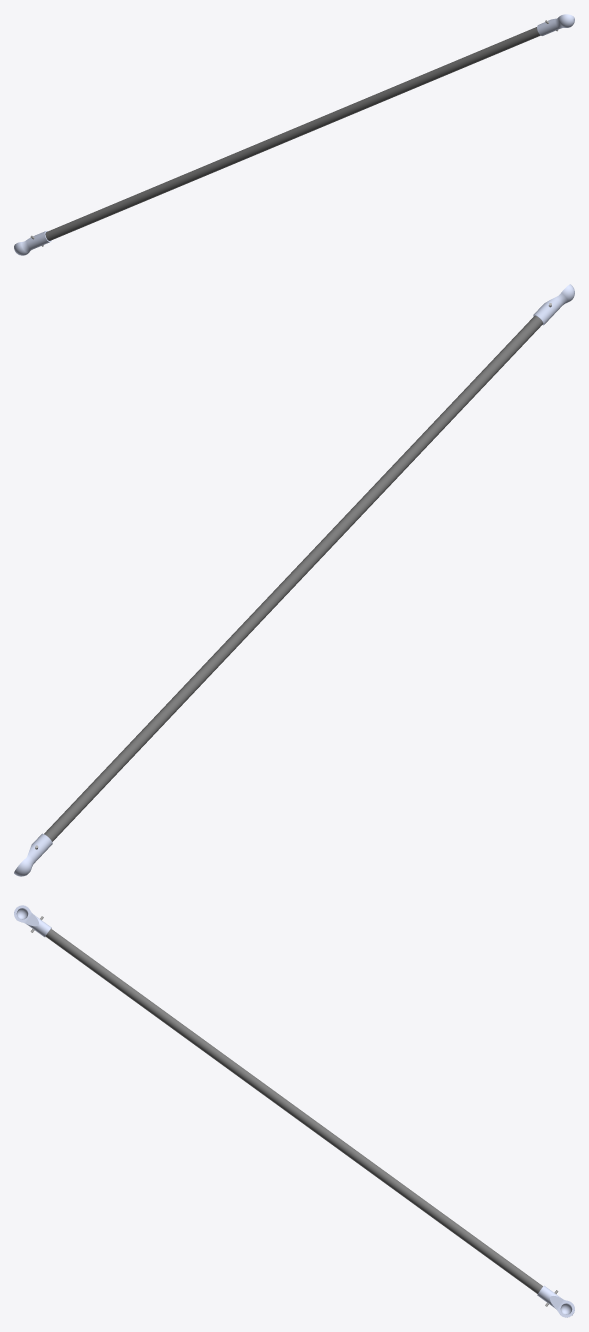
3 views of the same model, one above another, from view 1: azimuth 90°, elevation 25°; view 2: azimuth 150°, elevation 25°; view 3: azimuth 270°, elevation 25° (orthographic). The views are drawn at different scales.
Parts seen in each view (by area): view 1: IRB360_6-1600-STD-4D_rev03_LA3_1_CAD.step1; view 2: IRB360_6-1600-STD-4D_rev03_LA3_1_CAD.step1; view 3: IRB360_6-1600-STD-4D_rev03_LA3_1_CAD.step1.
Part boxes in pixels (bbox=[...]): IRB360_6-1600-STD-4D_rev03_LA3_1_CAD.step1: bbox=[14, 14, 574, 255]; IRB360_6-1600-STD-4D_rev03_LA3_1_CAD.step1: bbox=[14, 284, 574, 876]; IRB360_6-1600-STD-4D_rev03_LA3_1_CAD.step1: bbox=[14, 905, 574, 1317].
Bounding box in the file's own units: 0.3477 × 0.591 × 0.9214.
